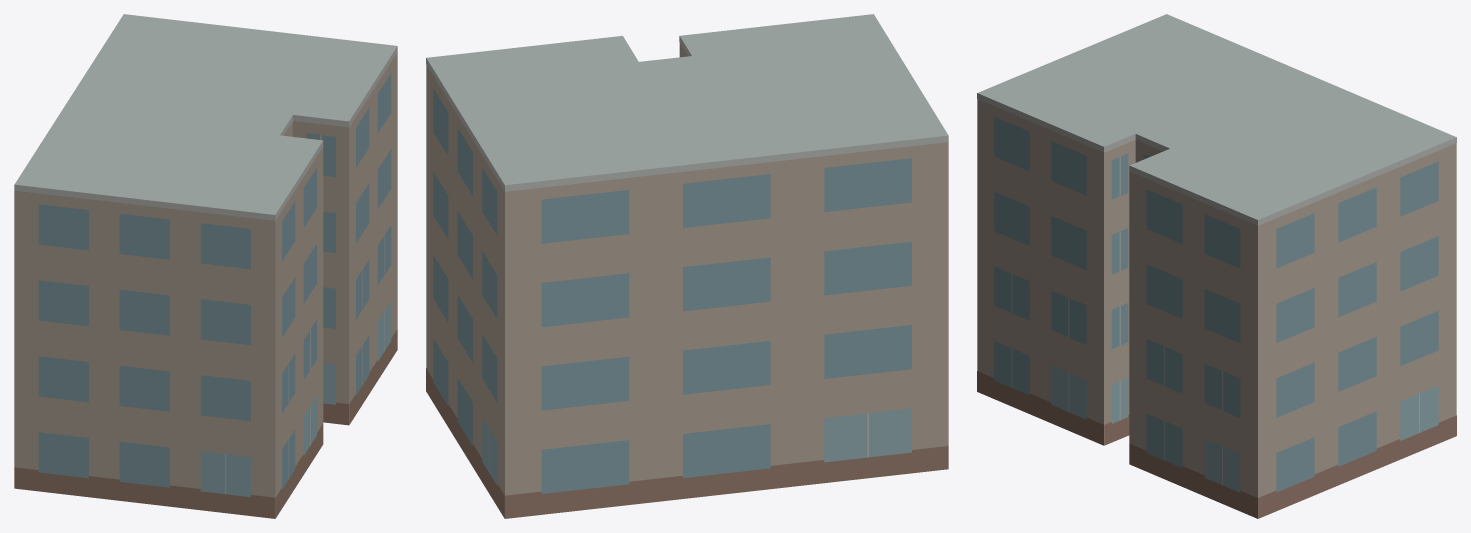
File: survey-upis-32652465.glb
3 views of the same model, side by side, from view 1: azimuth 30°, elevation 25°; view 2: azimuth 150°, elevation 25°; view 3: azimuth 270°, elevation 25° (orthographic). The views are drawn at different scales.
Visible parts, largest first — view 1: survey-upis-32652465.tmp; view 2: survey-upis-32652465.tmp; view 3: survey-upis-32652465.tmp.
Part boxes in pixels (left/top/right/bottom): survey-upis-32652465.tmp: left=14, top=14, right=397, bottom=518; survey-upis-32652465.tmp: left=426, top=14, right=948, bottom=518; survey-upis-32652465.tmp: left=977, top=14, right=1456, bottom=518.
Size of the model in its own units: 18.5 by 12.5 by 18.19.
